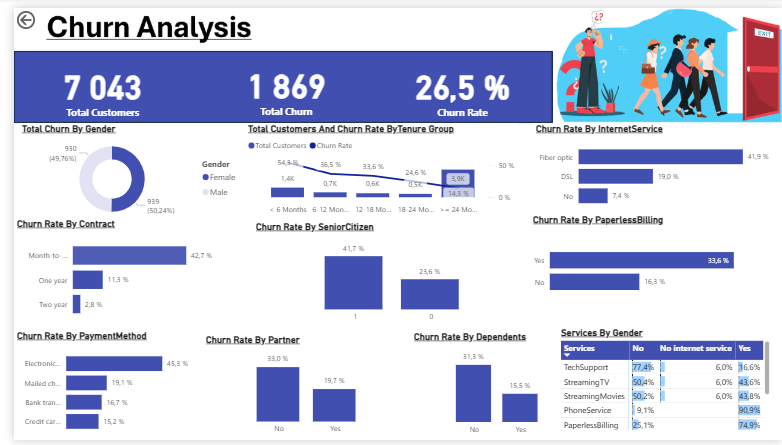

Layout of this report page (visuals, bound fields, positions):
{"tool":"powerbi","page":{"name":"Page 1","canvas":[1280,720],"ordinal":0},"visuals":[{"type":"card","fields":{"Values":["Tbl_Measures.Total Customers"]},"box":[18.6,84.4,258.9,101.5],"z":0},{"type":"card","fields":{"Values":["Tbl_Measures.Total Churn"]},"box":[324.6,77.2,257.4,114.4],"z":1000},{"type":"card","fields":{"Values":["Tbl_Measures.Churn Rate"]},"box":[640.7,80.1,214.5,111.6],"z":2000},{"type":"donutChart","title":"Total Churn By Gender","fields":{"Category":["prod_Churn.gender"],"Y":["Tbl_Measures.Total Churn"]},"box":[8.6,191.6,376.1,168.8],"z":3000},{"type":"barChart","title":"Churn Rate By PaymentMethod","fields":{"Category":["prod_Churn.PaymentMethod"],"Y":["Tbl_Measures.Churn Rate"]},"box":[0,537.1,296.8,183.6],"z":4000},{"type":"barChart","title":"Churn Rate By Contract","fields":{"Category":["prod_Churn.Contract"],"Y":["Tbl_Measures.Churn Rate"]},"box":[0,350.4,340.4,181.6],"z":5000},{"type":"actionButton","box":[0,0,100,40],"z":6000},{"type":"lineStackedColumnComboChart","title":"Total Customers And Churn Rate ByTenure Group","fields":{"Category":["Mapping_TenureGrp.Tenure Group"],"Y":["Tbl_Measures.Total Customers"],"Y2":["Tbl_Measures.Churn Rate"]},"box":[384.7,191.6,454.8,158.7],"z":7000},{"type":"clusteredColumnChart","title":"Churn Rate By Partner","fields":{"Category":["prod_Churn.Partner"],"Y":["Tbl_Measures.Churn Rate"]},"box":[314.6,543.5,347.5,175.9],"z":8000},{"type":"columnChart","title":"Churn Rate By SeniorCitizen","fields":{"Category":["prod_Churn.SeniorCitizen"],"Y":["Tbl_Measures.Churn Rate"]},"box":[397.6,354.7,467.7,177.3],"z":9000},{"type":"barChart","title":"Churn Rate By InternetService","fields":{"Category":["prod_Churn.InternetService"],"Y":["Tbl_Measures.Churn Rate"]},"box":[865.3,191.6,399,153],"z":10000},{"type":"barChart","title":"Churn Rate By PaperlessBilling","fields":{"Category":["prod_Churn.PaperlessBilling"],"Y":["Tbl_Measures.Churn Rate"]},"box":[859.7,344.2,384.5,165.6],"z":11000},{"type":"columnChart","title":"Churn Rate By  Dependents","fields":{"Category":["prod_Churn.Dependents"],"Y":["Tbl_Measures.Churn Rate"]},"box":[662.2,537.7,288.9,181.6],"z":12000},{"type":"pivotTable","title":"Services By Gender","fields":{"Rows":["Services.Services"],"Columns":["Services.Status"],"Values":["Sum(Services.Churn Status)"]},"box":[906.7,532,357.5,175.9],"z":13000}]}

Visuals, with their boxes in screenshot pixels (x1, y1, x2, y2), scaled from the page's 1280x720 canvas onto the 782x445 screenshot:
card - Tbl_Measures.Total Customers: (11, 52, 170, 115)
card - Tbl_Measures.Total Churn: (198, 48, 356, 118)
card - Tbl_Measures.Churn Rate: (391, 50, 522, 118)
"Total Churn By Gender" donutChart: (5, 118, 235, 223)
"Churn Rate By PaymentMethod" barChart: (0, 332, 181, 444)
"Churn Rate By Contract" barChart: (0, 217, 208, 329)
actionButton: (0, 0, 61, 25)
"Total Customers And Churn Rate ByTenure Group" lineStackedColumnComboChart: (235, 118, 513, 217)
"Churn Rate By Partner" clusteredColumnChart: (192, 336, 405, 444)
"Churn Rate By SeniorCitizen" columnChart: (243, 219, 529, 329)
"Churn Rate By InternetService" barChart: (529, 118, 772, 213)
"Churn Rate By PaperlessBilling" barChart: (525, 213, 760, 315)
"Churn Rate By  Dependents" columnChart: (405, 332, 581, 444)
"Services By Gender" pivotTable: (554, 329, 772, 438)
